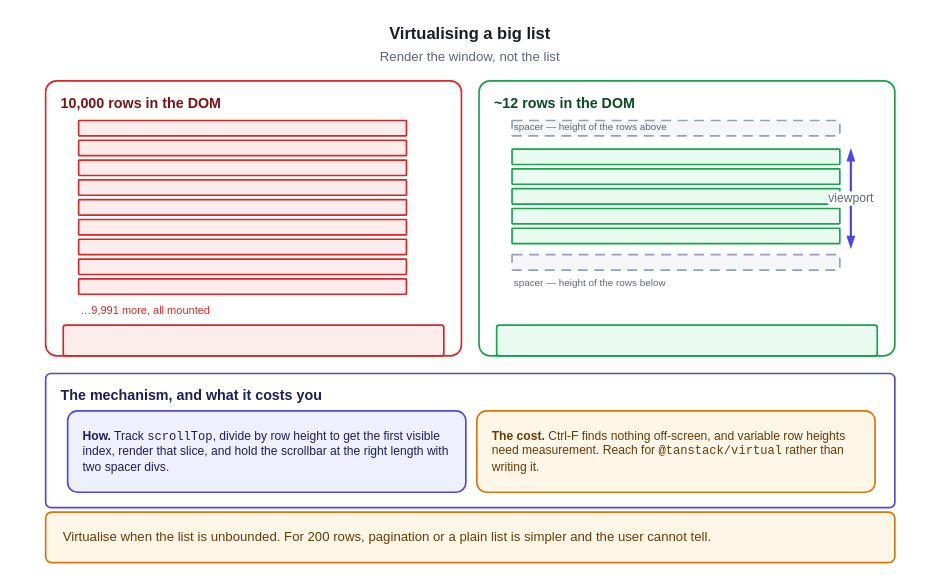
The diagram is 939 pixels wide and 582 high, and some of its shapes have lost their labels. The shapes that lost their labels are listed below. From the top down, each one's centre as x and y in pixels, then its label:
At [253,340]: "10,000 nodes · ~340 ms to mount · 90 MB".
At [686,340]: "12 nodes · ~4 ms · constant memory".
